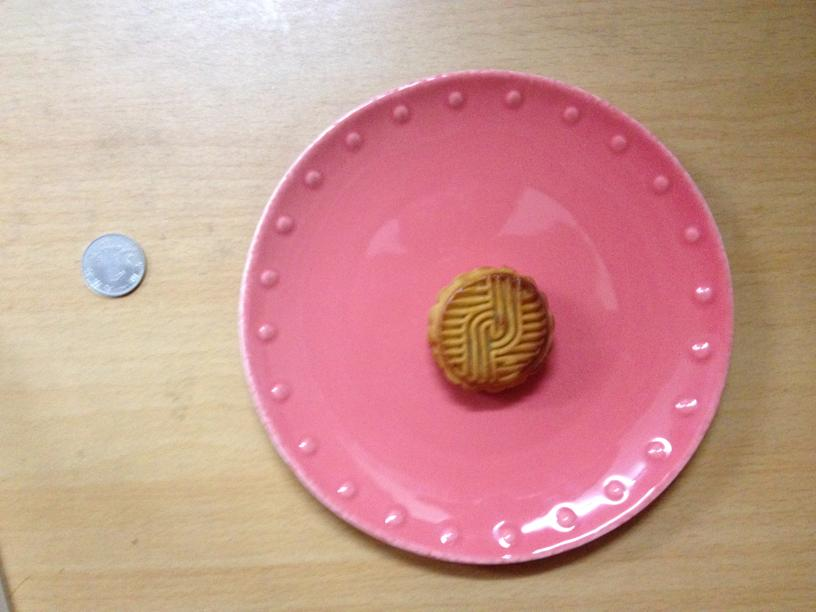coin: (82, 233, 147, 297)
mooncake: (426, 267, 555, 395)
